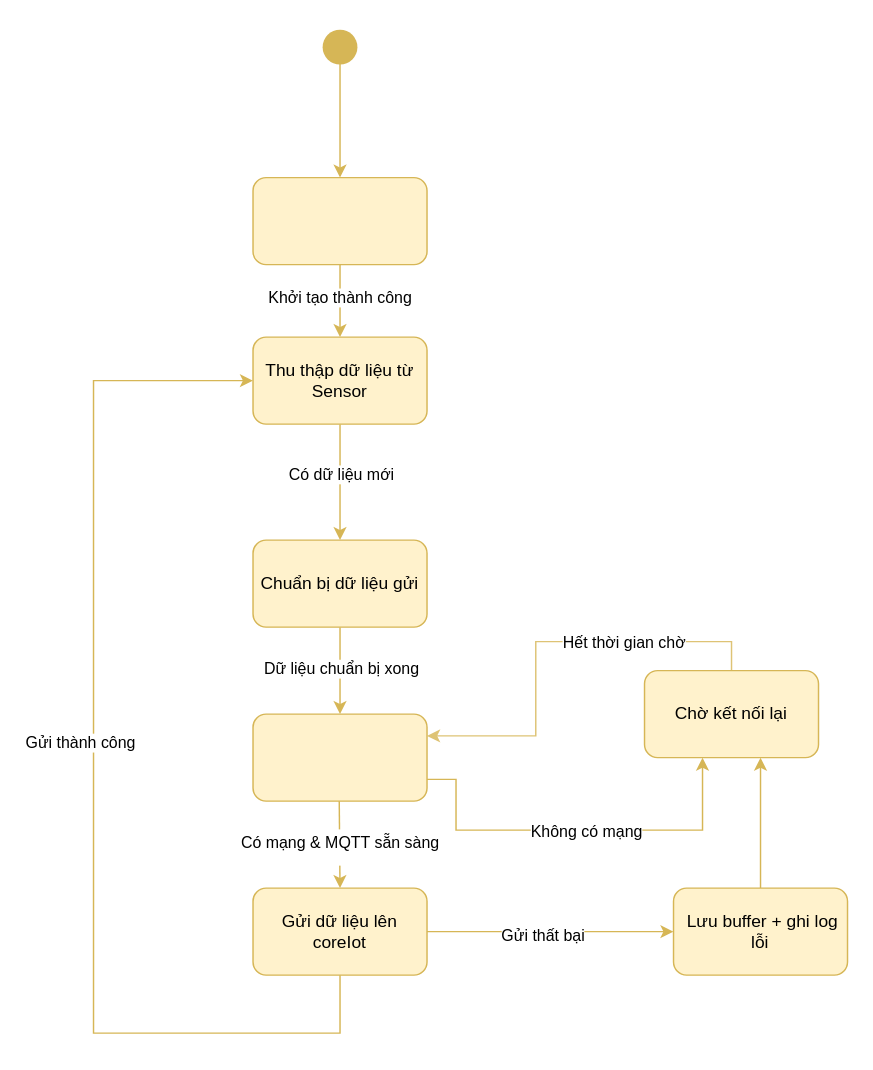
The diagram is 873 pixels wide and 1070 high, and some of its shapes have lost their labels. The shapes that lost their labels are listed below. From the top down, each one's centre as x and y in pixels, then its label:
the point at 339,220: Khởi tạo kết nối
the point at 339,757: Kiểm tra mạng
